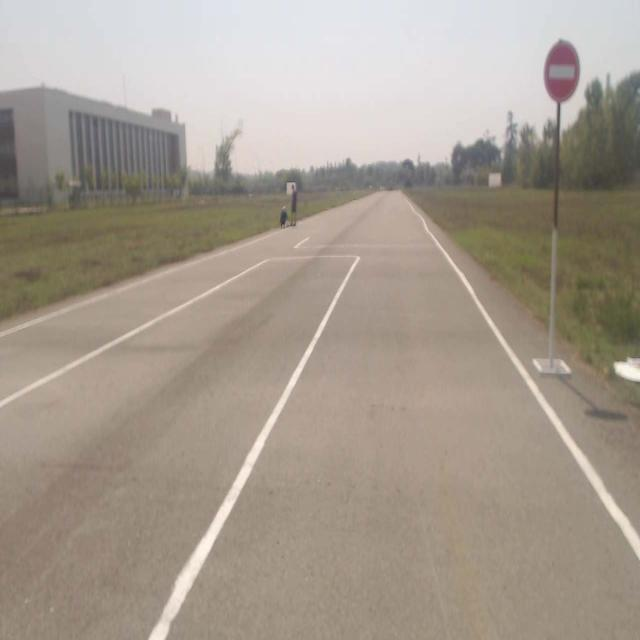girisyok: (546, 42, 579, 98)
